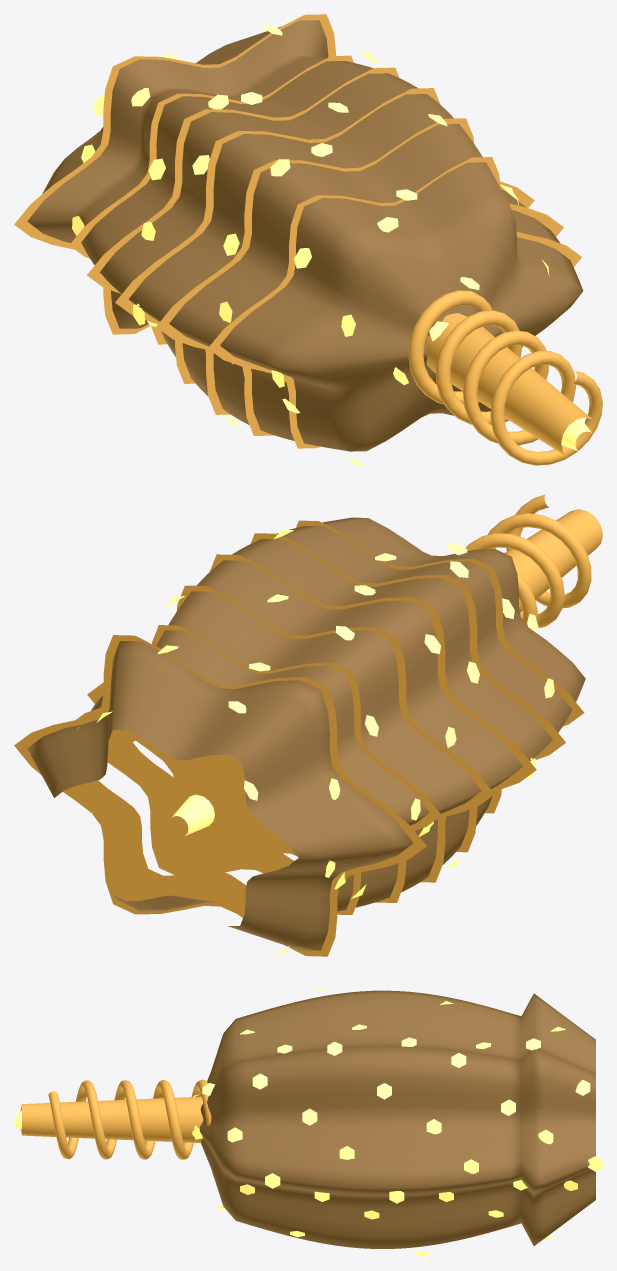
The model's file is mechanoids_dreadnought.glb.
3 views of the same model, one above another, from view 1: azimuth 30°, elevation 25°; view 2: azimuth 150°, elevation 25°; view 3: azimuth 270°, elevation 25° (orthographic). The views are drawn at different scales.
Parts seen in each view (by area): view 1: mechanoids_dreadnought; view 2: mechanoids_dreadnought; view 3: mechanoids_dreadnought.
Part boxes in pixels (left/top/right/bottom): mechanoids_dreadnought: left=14, top=14, right=602, bottom=465; mechanoids_dreadnought: left=14, top=494, right=602, bottom=956; mechanoids_dreadnought: left=14, top=988, right=602, bottom=1256.
Size of the model in its own units: 2.76 by 1.82 by 4.74.
